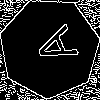A: (24, 23, 79, 72)
